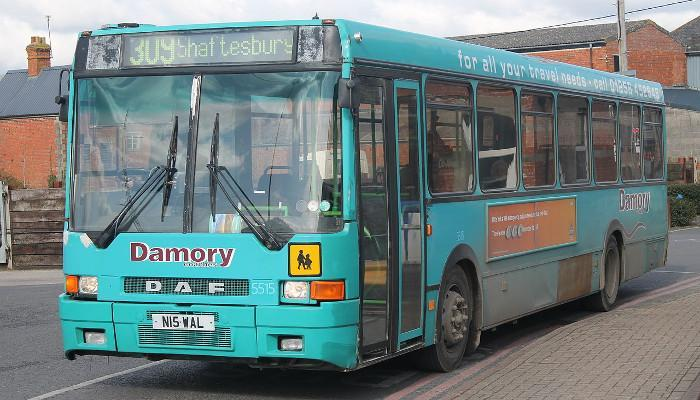Bus: (57, 18, 673, 375)
